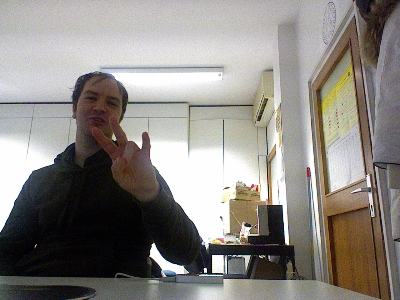观音: (90, 113, 158, 198)
